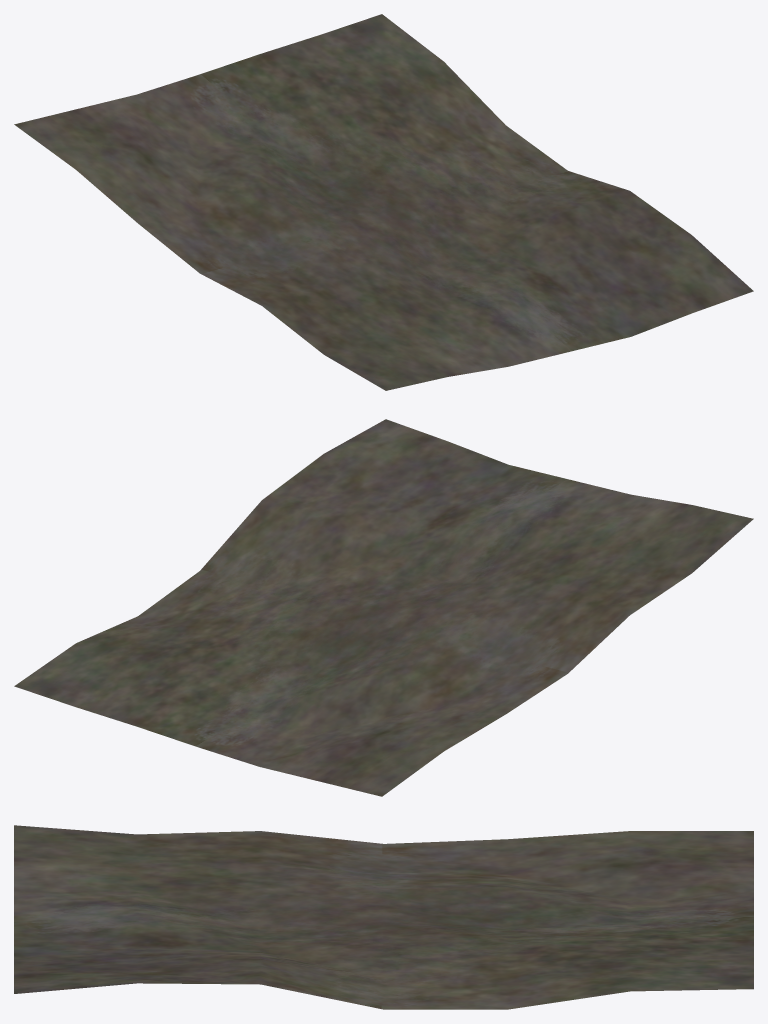
File: TestEntrancePlane.obj
3 renders of one model, top to bottom at view 1: azimuth 30°, elevation 25°; view 2: azimuth 150°, elevation 25°; view 3: azimuth 270°, elevation 25°, orthographic.
Visible parts, largest first — view 1: Plane; view 2: Plane; view 3: Plane.
Part boxes in pixels (x1=…): Plane: x1=14, y1=14, x2=753, y2=390; Plane: x1=14, y1=419, x2=753, y2=796; Plane: x1=14, y1=825, x2=753, y2=1009.
Bounding box in the file's own units: 8 × 0.8199 × 14.
